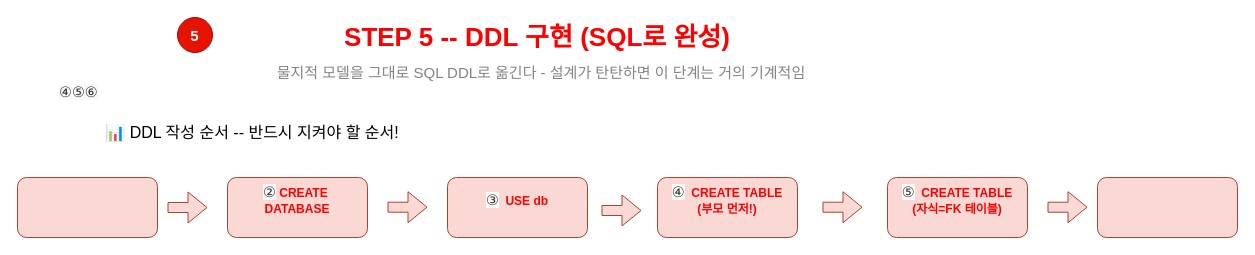
This 1255x255 diagram has some shape labels left out. The shapes that lost their labels are listed below. From the top down, each one's centre as x and y in pixels, then its label:
At [87,207]: "① DROP DATABASE IF EXISTS".
At [1167,207]: "⑥ DESC (구조 확인)".
